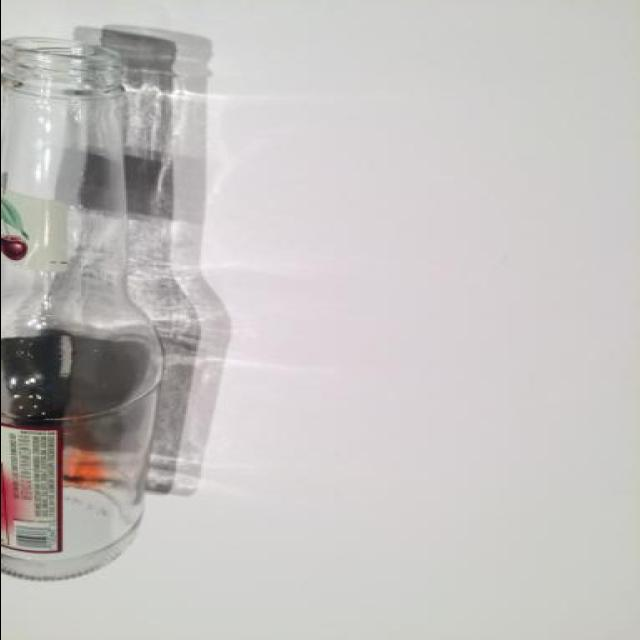glass: (0, 31, 152, 581)
